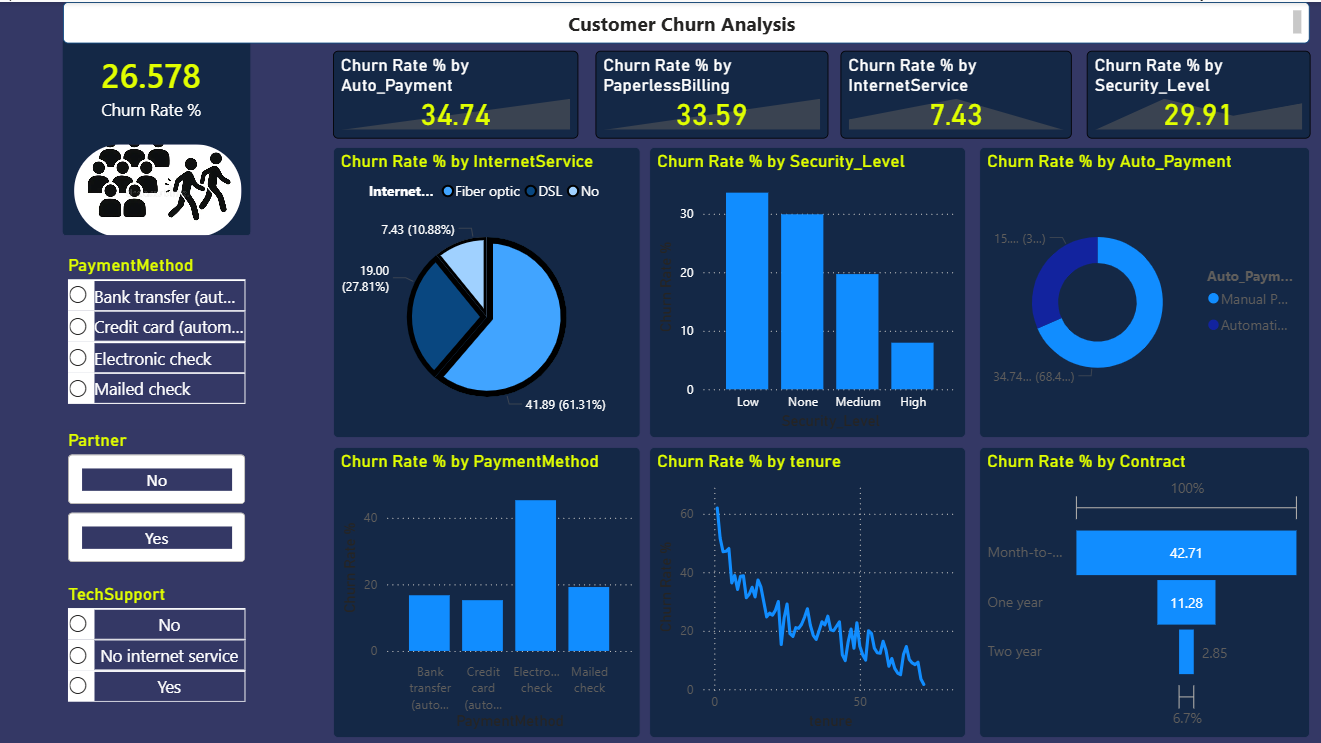

The page's visual inventory and layout, read from the dashboard file:
{"tool":"powerbi","page":{"name":"Page 1","canvas":[1280,720],"ordinal":0},"visuals":[{"type":"pieChart","fields":{"Y":["Cleaned_Telco_Churn_Dataset.Churn Rate %"],"Category":["Cleaned_Telco_Churn_Dataset.InternetService"]},"box":[322.9,140.3,296.8,280.6],"z":0},{"type":"clusteredColumnChart","fields":{"Category":["Cleaned_Telco_Churn_Dataset.PaymentMethod","Cleaned_Telco_Churn_Dataset.Security_Level"],"Y":["Cleaned_Telco_Churn_Dataset.Churn Rate %"]},"box":[322.9,429.6,296.8,280.6],"z":1000},{"type":"lineChart","fields":{"Category":["Cleaned_Telco_Churn_Dataset.tenure"],"Y":["Cleaned_Telco_Churn_Dataset.Churn Rate %"]},"box":[628.3,429.6,305.5,280.6],"z":2000},{"type":"columnChart","fields":{"Y":["Cleaned_Telco_Churn_Dataset.Churn Rate %"],"Category":["Cleaned_Telco_Churn_Dataset.Security_Level"]},"box":[628.3,140.3,305.5,280.6],"z":3000},{"type":"donutChart","fields":{"Category":["Cleaned_Telco_Churn_Dataset.Auto_Payment"],"Y":["Cleaned_Telco_Churn_Dataset.Churn Rate %"]},"box":[947.5,140.3,319.1,280.6],"z":4000},{"type":"funnel","fields":{"Category":["Cleaned_Telco_Churn_Dataset.Contract"],"Y":["Cleaned_Telco_Churn_Dataset.Churn Rate %"]},"box":[947.5,429.6,319.1,280.6],"z":5000},{"type":"listSlicer","fields":{"Values":["Cleaned_Telco_Churn_Dataset.PaymentMethod"]},"box":[63.3,243.4,181.3,161.4],"z":6000},{"type":"advancedSlicerVisual","fields":{"Values":["Cleaned_Telco_Churn_Dataset.Partner"]},"box":[63.3,412.3,181.3,134.1],"z":7000},{"type":"kpi","fields":{"Indicator":["Cleaned_Telco_Churn_Dataset.Churn Rate %"],"TrendLine":["Cleaned_Telco_Churn_Dataset.Auto_Payment"]},"box":[322.9,47.2,237.2,84.4],"z":8000},{"type":"kpi","fields":{"Indicator":["Cleaned_Telco_Churn_Dataset.Churn Rate %"],"TrendLine":["Cleaned_Telco_Churn_Dataset.PaperlessBilling"]},"box":[576.2,47.2,224.8,84.4],"z":9000},{"type":"kpi","fields":{"Indicator":["Cleaned_Telco_Churn_Dataset.Churn Rate %"],"TrendLine":["Cleaned_Telco_Churn_Dataset.InternetService"]},"box":[813.4,47.2,223.5,84.4],"z":10000},{"type":"kpi","fields":{"Indicator":["Cleaned_Telco_Churn_Dataset.Churn Rate %"],"TrendLine":["Cleaned_Telco_Churn_Dataset.Security_Level"]},"box":[1050.5,47.2,216.1,84.4],"z":11000},{"type":"cardVisual","fields":{"Data":["Cleaned_Telco_Churn_Dataset.Churn Rate %"]},"box":[44.7,18.6,217.3,226],"z":12000},{"type":"listSlicer","fields":{"Values":["Cleaned_Telco_Churn_Dataset.TechSupport"]},"box":[63.3,561.3,181.3,131.6],"z":13000},{"type":"textbox","box":[63.3,0,1203.3,39.7],"z":14000}]}

Visuals, with their boxes in screenshot pixels (x1, y1, x2, y2), scaled from the page's 1280x720 canvas onto the 1321x743 screenshot:
pieChart - Cleaned_Telco_Churn_Dataset.Churn Rate % x Cleaned_Telco_Churn_Dataset.InternetService: left=333, top=145, right=640, bottom=434
clusteredColumnChart - Cleaned_Telco_Churn_Dataset.PaymentMethod x Cleaned_Telco_Churn_Dataset.Security_Level: left=333, top=443, right=640, bottom=733
lineChart - Cleaned_Telco_Churn_Dataset.tenure x Cleaned_Telco_Churn_Dataset.Churn Rate %: left=648, top=443, right=964, bottom=733
columnChart - Cleaned_Telco_Churn_Dataset.Churn Rate % x Cleaned_Telco_Churn_Dataset.Security_Level: left=648, top=145, right=964, bottom=434
donutChart - Cleaned_Telco_Churn_Dataset.Auto_Payment x Cleaned_Telco_Churn_Dataset.Churn Rate %: left=978, top=145, right=1307, bottom=434
funnel - Cleaned_Telco_Churn_Dataset.Contract x Cleaned_Telco_Churn_Dataset.Churn Rate %: left=978, top=443, right=1307, bottom=733
listSlicer - Cleaned_Telco_Churn_Dataset.PaymentMethod: left=65, top=251, right=252, bottom=418
advancedSlicerVisual - Cleaned_Telco_Churn_Dataset.Partner: left=65, top=425, right=252, bottom=564
kpi - Cleaned_Telco_Churn_Dataset.Churn Rate % x Cleaned_Telco_Churn_Dataset.Auto_Payment: left=333, top=49, right=578, bottom=136
kpi - Cleaned_Telco_Churn_Dataset.Churn Rate % x Cleaned_Telco_Churn_Dataset.PaperlessBilling: left=595, top=49, right=827, bottom=136
kpi - Cleaned_Telco_Churn_Dataset.Churn Rate % x Cleaned_Telco_Churn_Dataset.InternetService: left=839, top=49, right=1070, bottom=136
kpi - Cleaned_Telco_Churn_Dataset.Churn Rate % x Cleaned_Telco_Churn_Dataset.Security_Level: left=1084, top=49, right=1307, bottom=136
cardVisual - Cleaned_Telco_Churn_Dataset.Churn Rate %: left=46, top=19, right=270, bottom=252
listSlicer - Cleaned_Telco_Churn_Dataset.TechSupport: left=65, top=579, right=252, bottom=715
textbox: left=65, top=0, right=1307, bottom=41
